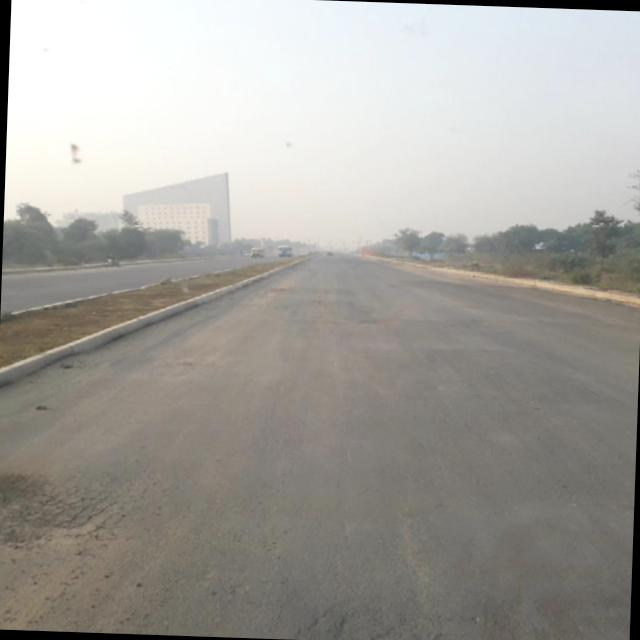crack: (291, 545, 437, 640), (0, 439, 139, 537)
